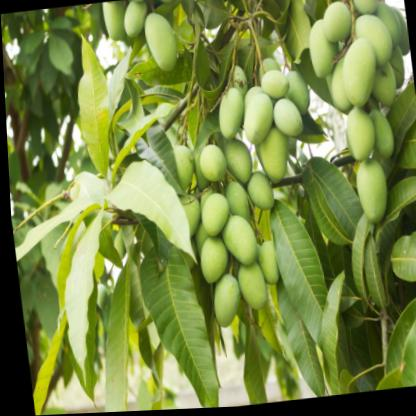--: (344, 153, 393, 246), (338, 36, 383, 113), (329, 102, 379, 167), (141, 8, 183, 78), (217, 215, 262, 279), (203, 270, 244, 340), (237, 85, 278, 153), (207, 81, 250, 144), (228, 254, 268, 319), (192, 185, 232, 248), (192, 233, 231, 292), (194, 135, 230, 188), (259, 65, 293, 107)
